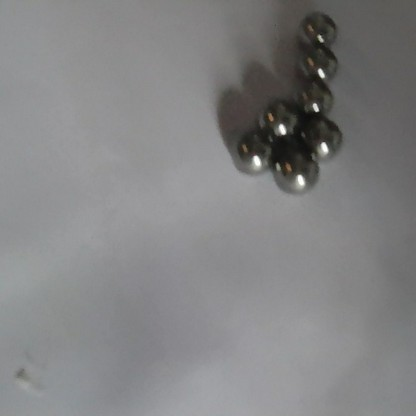ironball: (272, 144, 322, 195), (292, 114, 347, 160), (228, 126, 274, 176), (297, 6, 340, 47), (255, 97, 297, 138), (297, 42, 340, 81), (294, 77, 334, 116)
